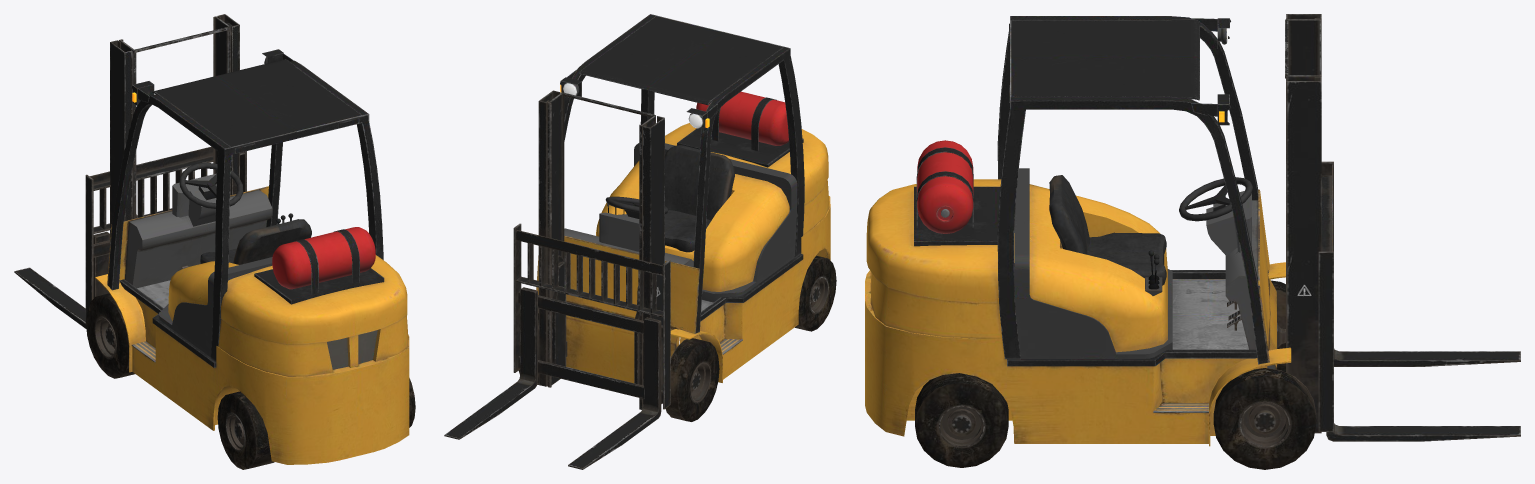
File: veh_forklift.glb
3 renders of one model, left to right at view 1: azimuth 30°, elevation 25°; view 2: azimuth 150°, elevation 25°; view 3: azimuth 270°, elevation 25°, orthographic. The views are drawn at different scales.
Parts seen in each view (by area): view 1: forklift_body_A, forklift_body_B; view 2: forklift_body_B, forklift_body_A; view 3: forklift_body_A, forklift_body_B.
Boxes of the visible parts, x1,y1,x2,y2 form: forklift_body_A: (95, 49, 409, 464); forklift_body_B: (14, 14, 415, 469); forklift_body_B: (444, 90, 836, 469); forklift_body_A: (560, 14, 830, 382); forklift_body_A: (865, 16, 1291, 446); forklift_body_B: (915, 14, 1520, 469).
Size of the model in its own units: 156 by 268 by 426.
3 materials, 3 textured.
